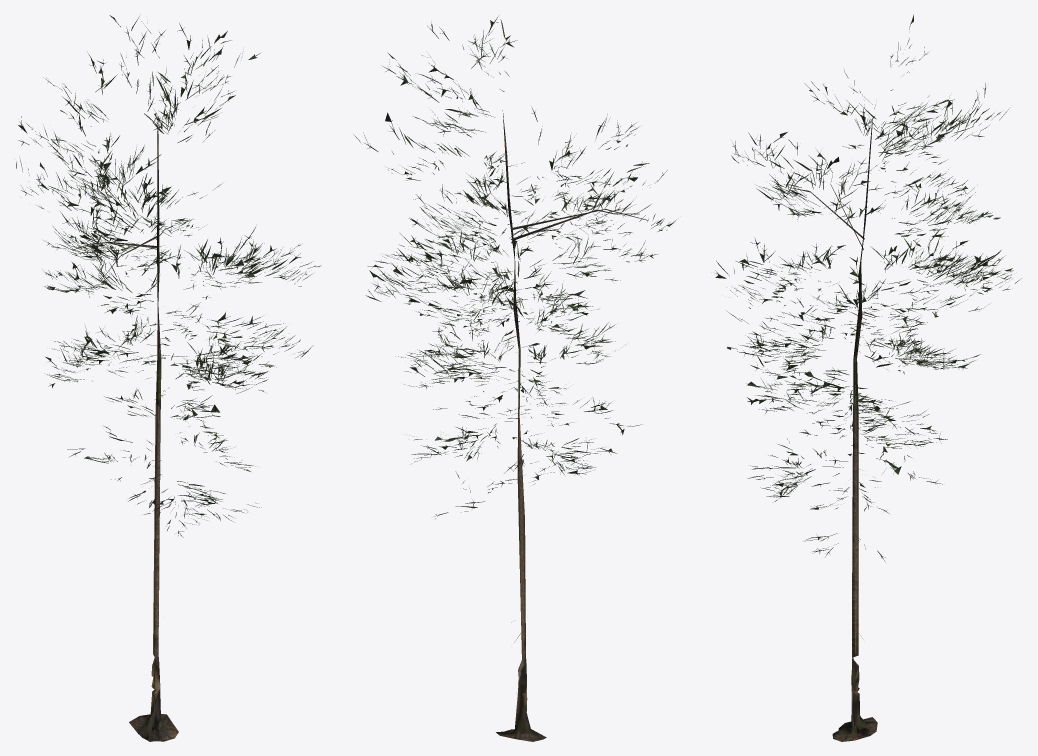
The model's file is tree_a_lod0.glb.
3 views of the same model, side by side, from view 1: azimuth 30°, elevation 25°; view 2: azimuth 150°, elevation 25°; view 3: azimuth 270°, elevation 25° (orthographic). The views are drawn at different scales.
Parts seen in each view (by area): view 1: pine_tree_01_a_LOD0; view 2: pine_tree_01_a_LOD0; view 3: pine_tree_01_a_LOD0.
Part boxes in pixels (box(x1,y1,x2,y2)): pine_tree_01_a_LOD0: box(16, 15, 321, 741); pine_tree_01_a_LOD0: box(353, 16, 676, 741); pine_tree_01_a_LOD0: box(715, 14, 1021, 741).
Bounding box in the file's own units: 7.33 × 20.24 × 8.08.
Materials: 4 (4 with a texture image).
